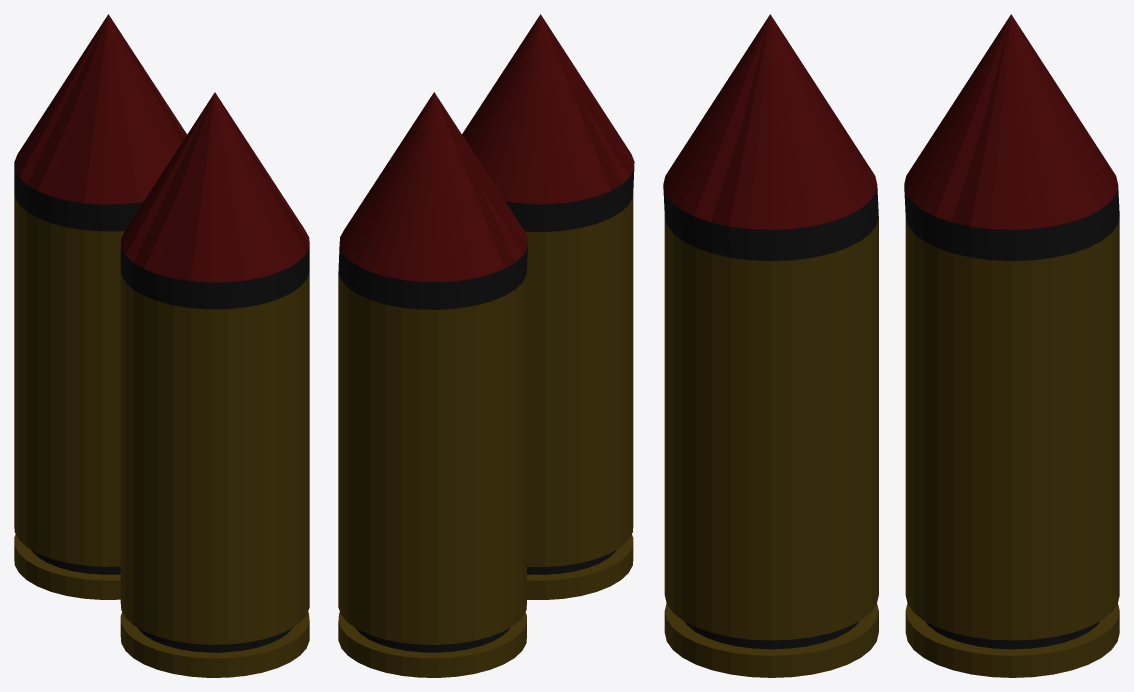
The model's file is doublebullet.obj.
3 views of the same model, side by side, from view 1: azimuth 30°, elevation 25°; view 2: azimuth 150°, elevation 25°; view 3: azimuth 270°, elevation 25° (orthographic). The views are drawn at different scales.
Parts seen in each view (by area): view 1: Cylinder.001, Cylinder; view 2: Cylinder, Cylinder.001; view 3: Cylinder.001, Cylinder.
Boxes of the visible parts, bbox=[...] form: Cylinder.001: bbox=[120, 92, 309, 677]; Cylinder: bbox=[14, 14, 186, 599]; Cylinder: bbox=[338, 92, 527, 677]; Cylinder.001: bbox=[462, 14, 634, 599]; Cylinder.001: bbox=[663, 14, 878, 677]; Cylinder: bbox=[904, 14, 1119, 677].
Size of the model in its own units: 2.01 by 6.37 by 4.26.
